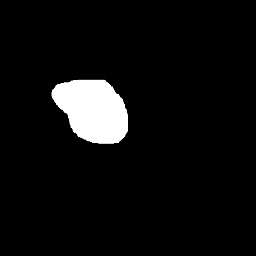mass: (49, 79, 129, 139)
